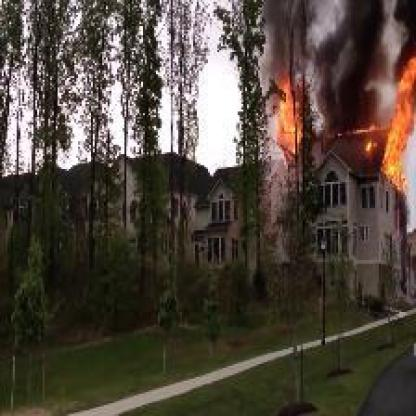fire: (360, 64, 410, 190), (268, 73, 310, 157)
smoke: (316, 2, 384, 117), (264, 1, 308, 73), (390, 1, 412, 58)
